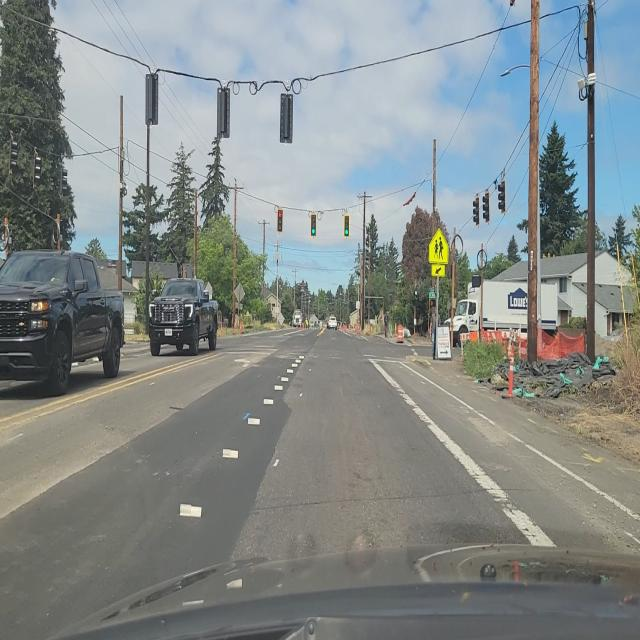car: (0, 250, 123, 391), (148, 277, 216, 355), (327, 316, 337, 330), (292, 314, 300, 328)
crosswalk-sign: (429, 290, 435, 299)
delineator: (429, 228, 449, 268), (507, 343, 515, 398), (460, 336, 464, 360), (394, 322, 398, 336), (354, 323, 360, 332)
